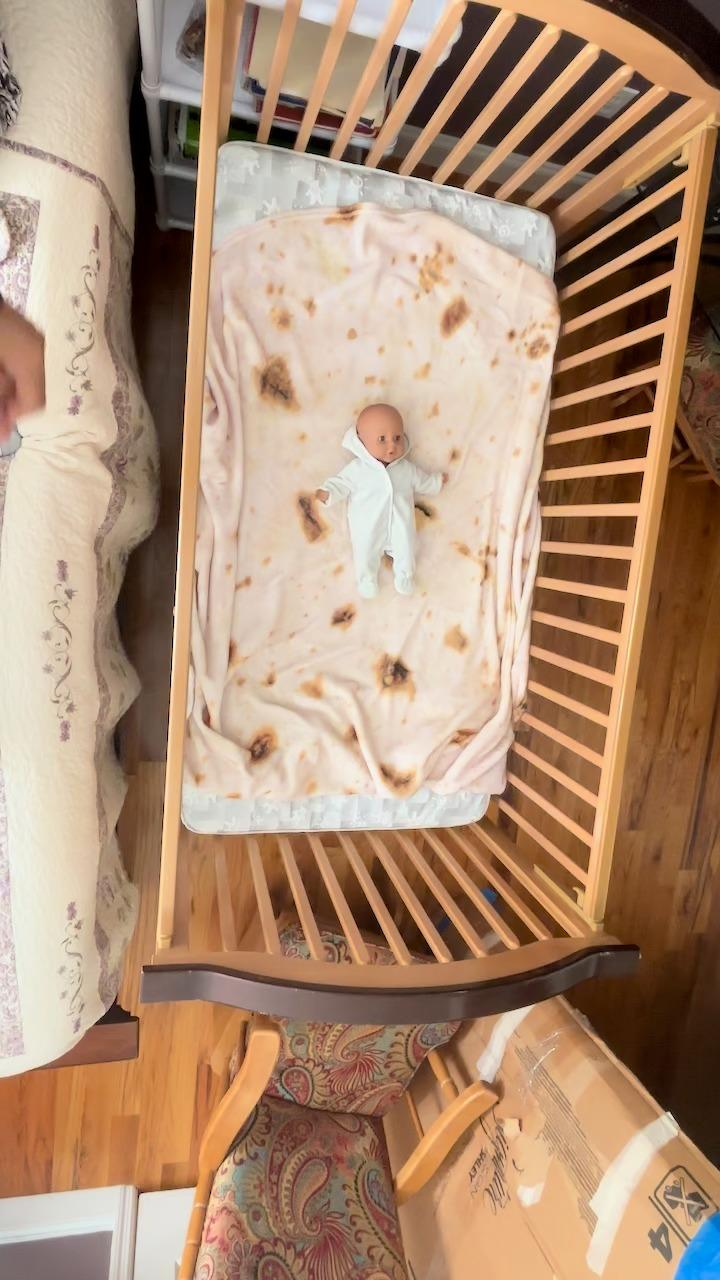baby: (306, 400, 452, 600)
